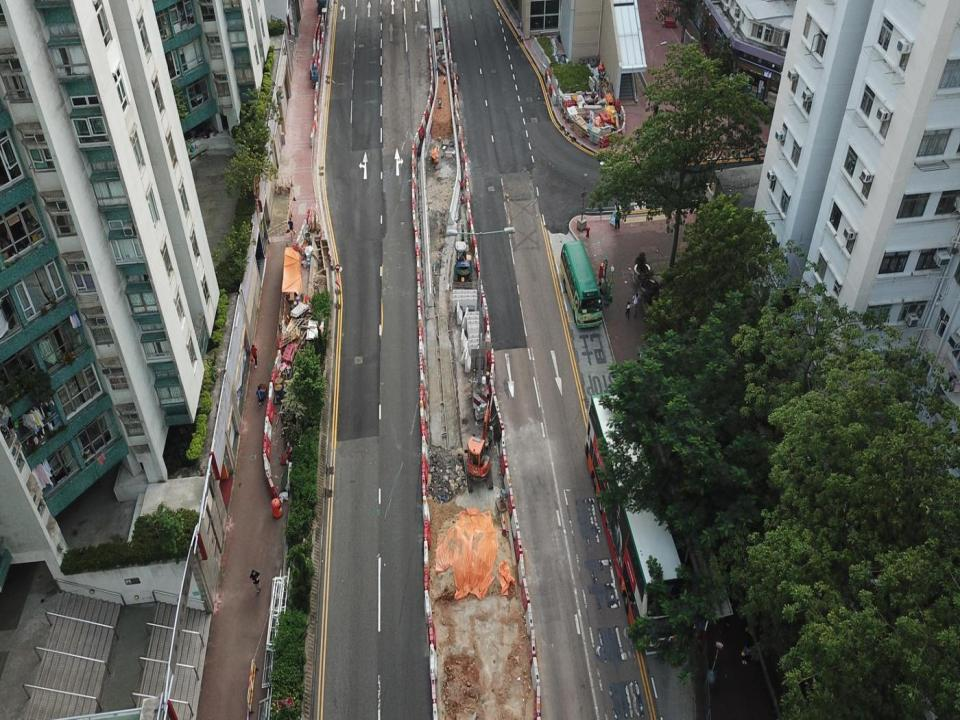bus: (584, 389, 686, 651), (560, 241, 602, 328)
